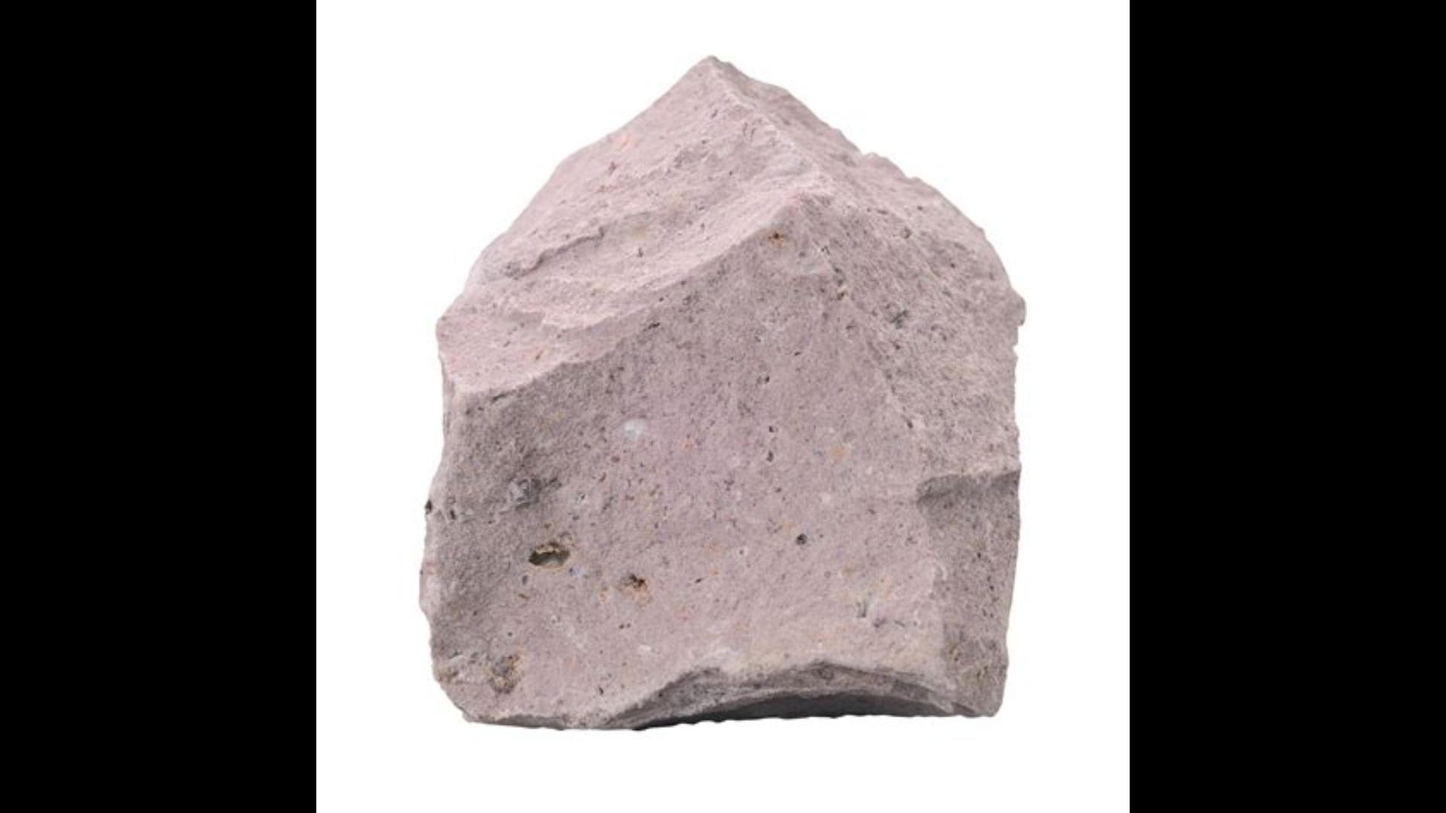rock: (421, 60, 1020, 724)
